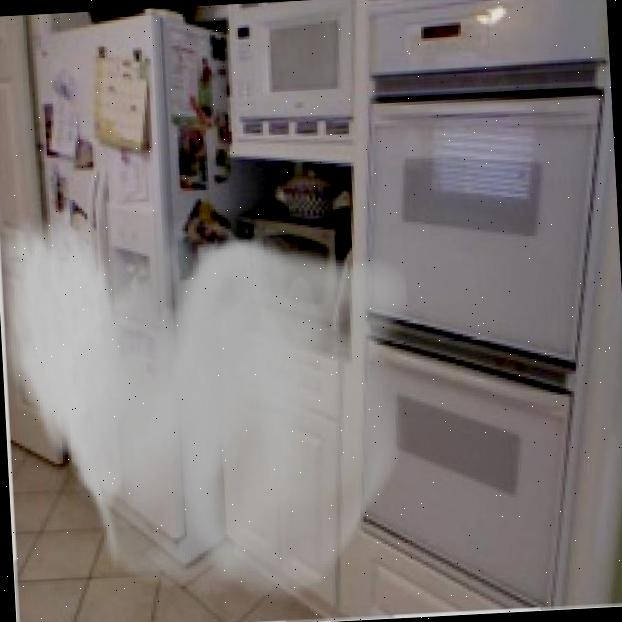smoke: (0, 179, 425, 622)
